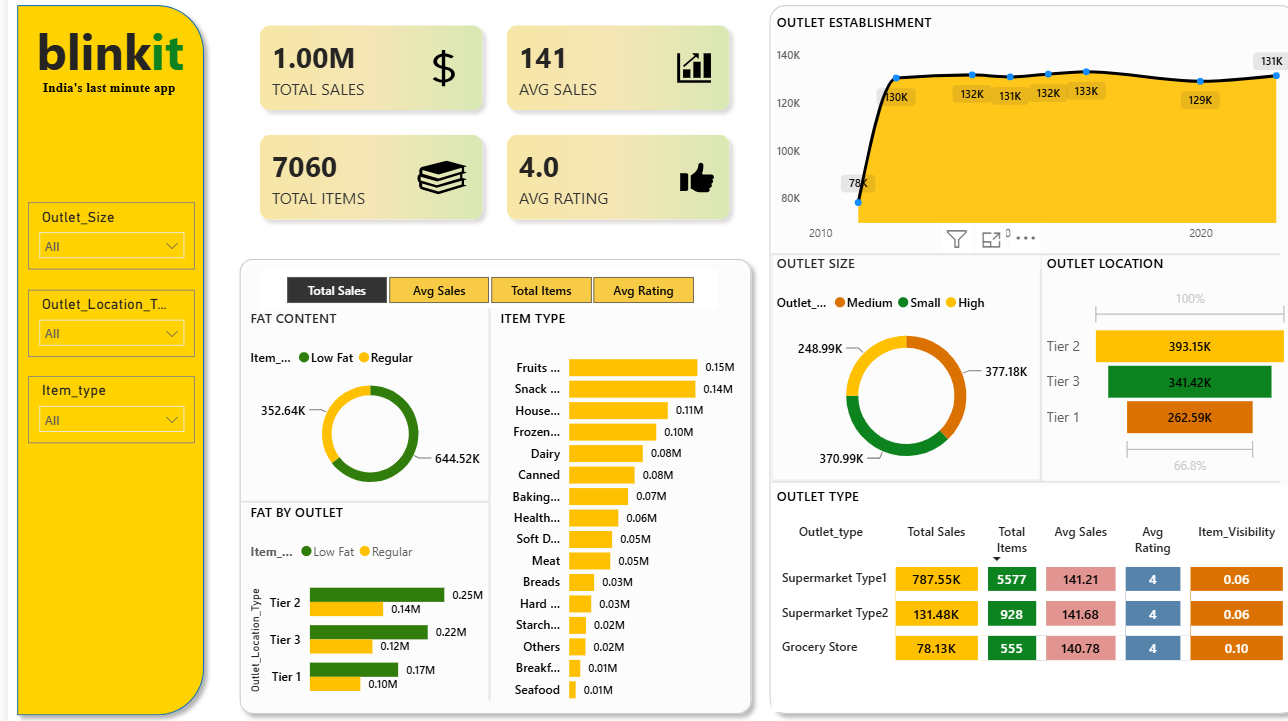

The dashboard page shown, as its layout file describes it:
{"tool":"powerbi","page":{"name":"Page 1","canvas":[1280,720],"ordinal":0},"visuals":[{"type":"shape","box":[0,0,202.6,719.5],"z":0},{"type":"textbox","box":[9.1,15.6,184.3,74.7],"z":1000},{"type":"textbox","box":[29.9,75.3,144.6,31.3],"z":2000},{"type":"cardVisual","fields":{"Data":["blinkit.Total Sales","blinkit.Avg Sales","blinkit.Total Items","blinkit.Avg Rating"]},"box":[219.5,0,523.4,250.6],"z":3000},{"type":"shape","box":[219.5,250.6,523.4,467.5],"z":4000},{"type":"donutChart","title":"FAT CONTENT","fields":{"Y":["blinkit.Total Sales"],"Category":["blinkit.Item_Fat_content"]},"box":[235.1,309.1,246.8,190.9],"z":5000},{"type":"slicer","fields":{"Values":["Metrics.Metrics"]},"box":[249.4,270.4,451.9,39.5],"z":6000},{"type":"clusteredBarChart","title":"FAT BY OUTLET","fields":{"Y":["blinkit.Total Sales"],"Category":["blinkit.Outlet_Location_Type"],"Series":["blinkit.Item_Fat_content"]},"box":[235.1,500,240.3,207.8],"z":7000},{"type":"shape","box":[229.9,484.4,245.5,31.2],"z":8000},{"type":"shape","box":[433.8,309.1,84.4,387],"z":9000},{"type":"barChart","title":"ITEM TYPE","fields":{"Y":["blinkit.Total Sales"],"Category":["blinkit.Item_type"]},"box":[481.8,309.1,241.6,398.7],"z":10000},{"type":"shape","box":[742.9,0,537.7,718.2],"z":11000},{"type":"lineChart","title":"OUTLET ESTABLISHMENT","fields":{"Category":["blinkit.Outlet_Establishment_Year"],"Y":["blinkit.Total Sales"]},"box":[754.5,15.6,515.6,235.1],"z":12000},{"type":"shape","box":[754.5,239,502.6,31.2],"z":13000},{"type":"donutChart","title":"OUTLET SIZE","fields":{"Y":["blinkit.Total Sales"],"Category":["blinkit.Outlet_Size"]},"box":[754.5,254.5,266.2,224.7],"z":14000},{"type":"shape","box":[977.9,270.1,84.4,209.1],"z":15000},{"type":"funnel","title":"OUTLET LOCATION","fields":{"Y":["blinkit.Total Sales"],"Category":["blinkit.Outlet_Location_Type"]},"box":[1020.8,254.5,249.4,224.7],"z":16000},{"type":"shape","box":[754.5,463.6,502.6,31.2],"z":17000},{"type":"pivotTable","title":"OUTLET TYPE","fields":{"Rows":["blinkit.Outlet_type"],"Values":["blinkit.Total Sales","blinkit.Total Items","blinkit.Avg Sales","blinkit.Avg Rating","Avg(blinkit.Item_Visibility)"]},"box":[754.5,484.4,515.6,223.4],"z":18000},{"type":"slicer","fields":{"Values":["blinkit.Outlet_Size"]},"box":[19.5,203.9,164.9,66.2],"z":19000},{"type":"slicer","fields":{"Values":["blinkit.Outlet_Location_Type"]},"box":[19.5,289.6,164.9,66.2],"z":20000},{"type":"slicer","fields":{"Values":["blinkit.Item_type"]},"box":[19.5,375.3,164.9,66.2],"z":21000}]}

Visuals, with their boxes in screenshot pixels (x1, y1, x2, y2), scaled from the page's 1280x720 canvas onto the 1288x721 screenshot:
shape: (left=0, top=0, right=204, bottom=720)
textbox: (left=9, top=16, right=195, bottom=90)
textbox: (left=30, top=75, right=176, bottom=107)
cardVisual - blinkit.Total Sales x blinkit.Avg Sales: (left=221, top=0, right=748, bottom=251)
shape: (left=221, top=251, right=748, bottom=719)
"FAT CONTENT" donutChart: (left=237, top=310, right=485, bottom=501)
slicer - Metrics.Metrics: (left=251, top=271, right=706, bottom=310)
"FAT BY OUTLET" clusteredBarChart: (left=237, top=501, right=478, bottom=709)
shape: (left=231, top=485, right=478, bottom=516)
shape: (left=437, top=310, right=521, bottom=697)
"ITEM TYPE" barChart: (left=485, top=310, right=728, bottom=709)
shape: (left=748, top=0, right=1287, bottom=719)
"OUTLET ESTABLISHMENT" lineChart: (left=759, top=16, right=1278, bottom=251)
shape: (left=759, top=239, right=1265, bottom=271)
"OUTLET SIZE" donutChart: (left=759, top=255, right=1027, bottom=480)
shape: (left=984, top=270, right=1069, bottom=480)
"OUTLET LOCATION" funnel: (left=1027, top=255, right=1278, bottom=480)
shape: (left=759, top=464, right=1265, bottom=495)
"OUTLET TYPE" pivotTable: (left=759, top=485, right=1278, bottom=709)
slicer - blinkit.Outlet_Size: (left=20, top=204, right=186, bottom=270)
slicer - blinkit.Outlet_Location_Type: (left=20, top=290, right=186, bottom=356)
slicer - blinkit.Item_type: (left=20, top=376, right=186, bottom=442)
